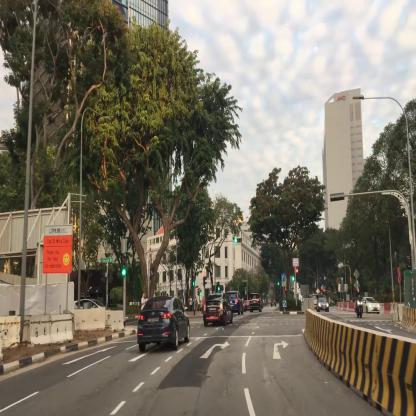green_traffic_light: (122, 256, 126, 275), (234, 238, 242, 242)
